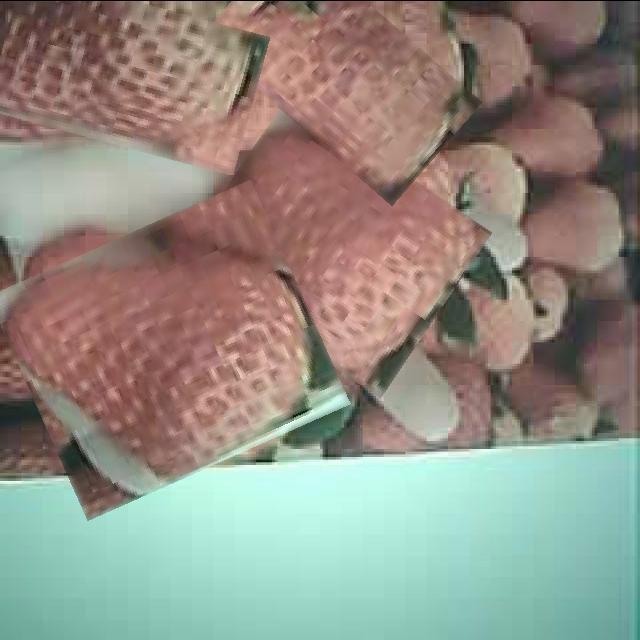strawberry: (6, 203, 332, 497), (195, 120, 474, 372), (206, 0, 475, 171), (0, 0, 263, 159)
